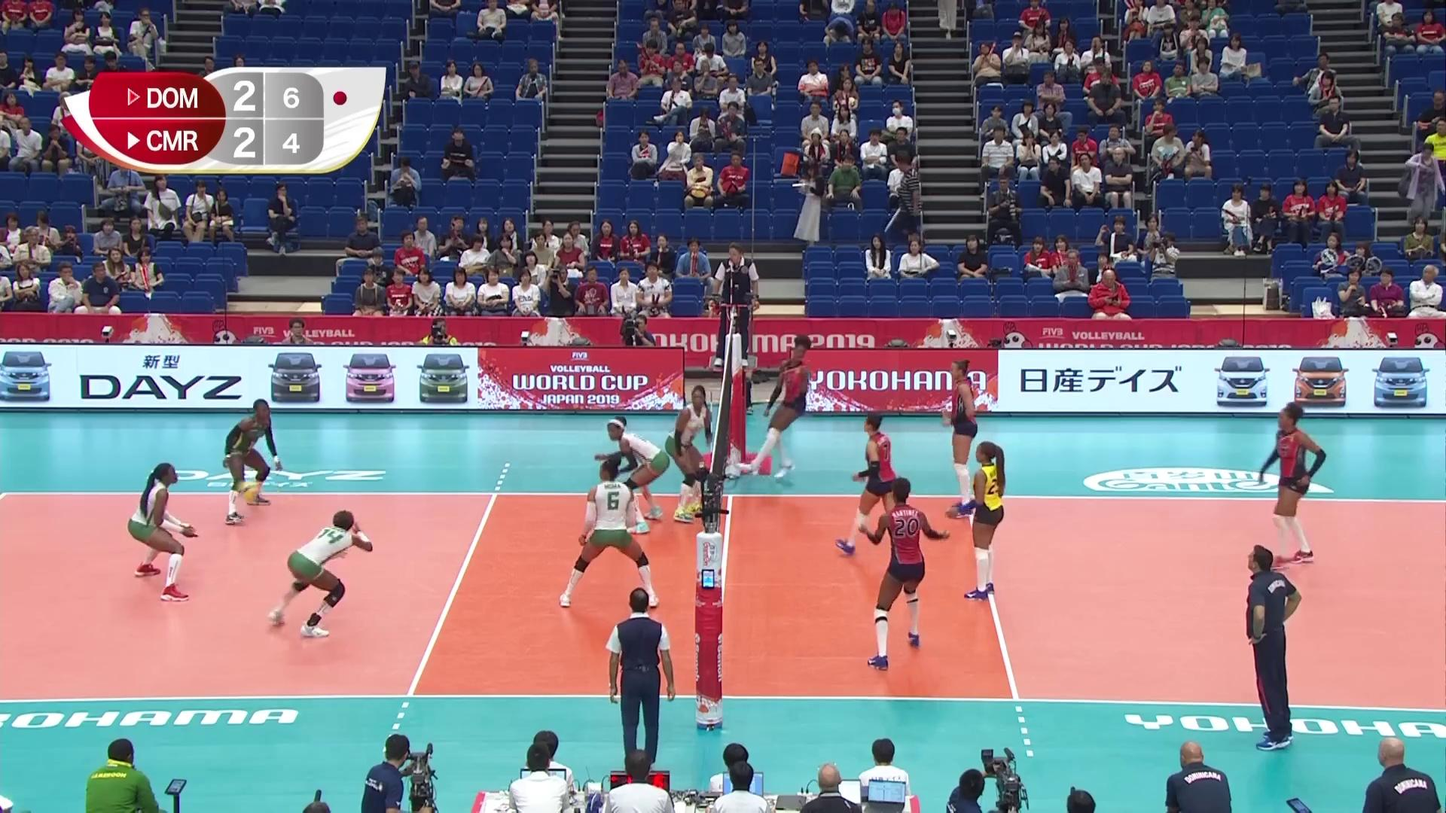player: (859, 486, 938, 675), (565, 461, 662, 607), (267, 513, 376, 637), (1261, 407, 1331, 563), (834, 412, 909, 553), (129, 463, 204, 600), (945, 441, 1009, 597), (592, 416, 669, 532), (750, 341, 814, 480), (215, 396, 287, 514), (664, 381, 717, 524), (944, 362, 982, 519)
refree: (601, 595, 676, 765), (714, 244, 759, 367)
